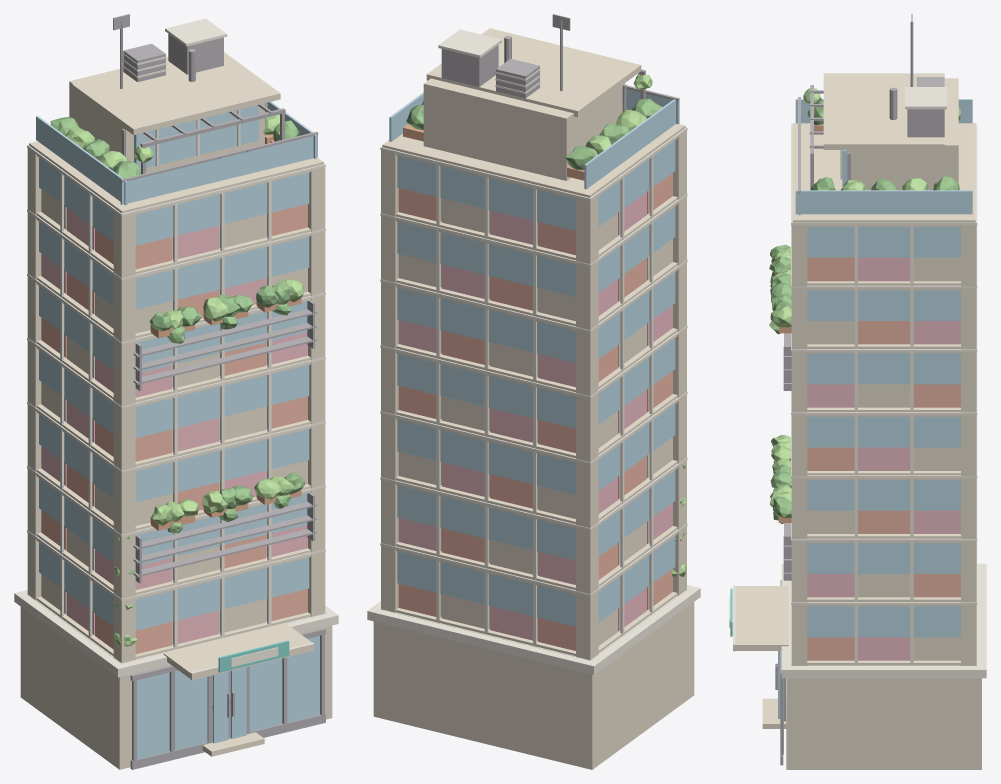
File: Modern_C.fbx
The picture shows the model from 3 angles, left to right: view 1: azimuth 30°, elevation 25°; view 2: azimuth 150°, elevation 25°; view 3: azimuth 270°, elevation 25°; orthographic projection. The views are drawn at different scales.
Parts seen in each view (by area): view 1: Modern_C, Modern_C_Veg; view 2: Modern_C, Modern_C_Veg; view 3: Modern_C, Modern_C_Veg.
Boxes of the visible parts, x1,y1,x2,y2 form: Modern_C: [14, 14, 338, 769]; Modern_C_Veg: [50, 103, 304, 646]; Modern_C: [367, 14, 700, 769]; Modern_C_Veg: [406, 74, 686, 576]; Modern_C: [729, 14, 986, 769]; Modern_C_Veg: [769, 88, 960, 523].
Bounding box in the file's own units: 5.4 × 16.16 × 5.53.
